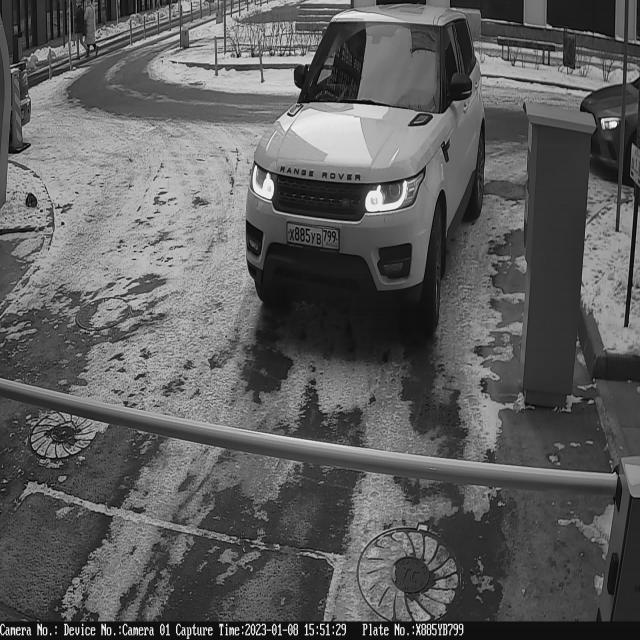car-plate-numbers: (285, 216, 342, 257)
